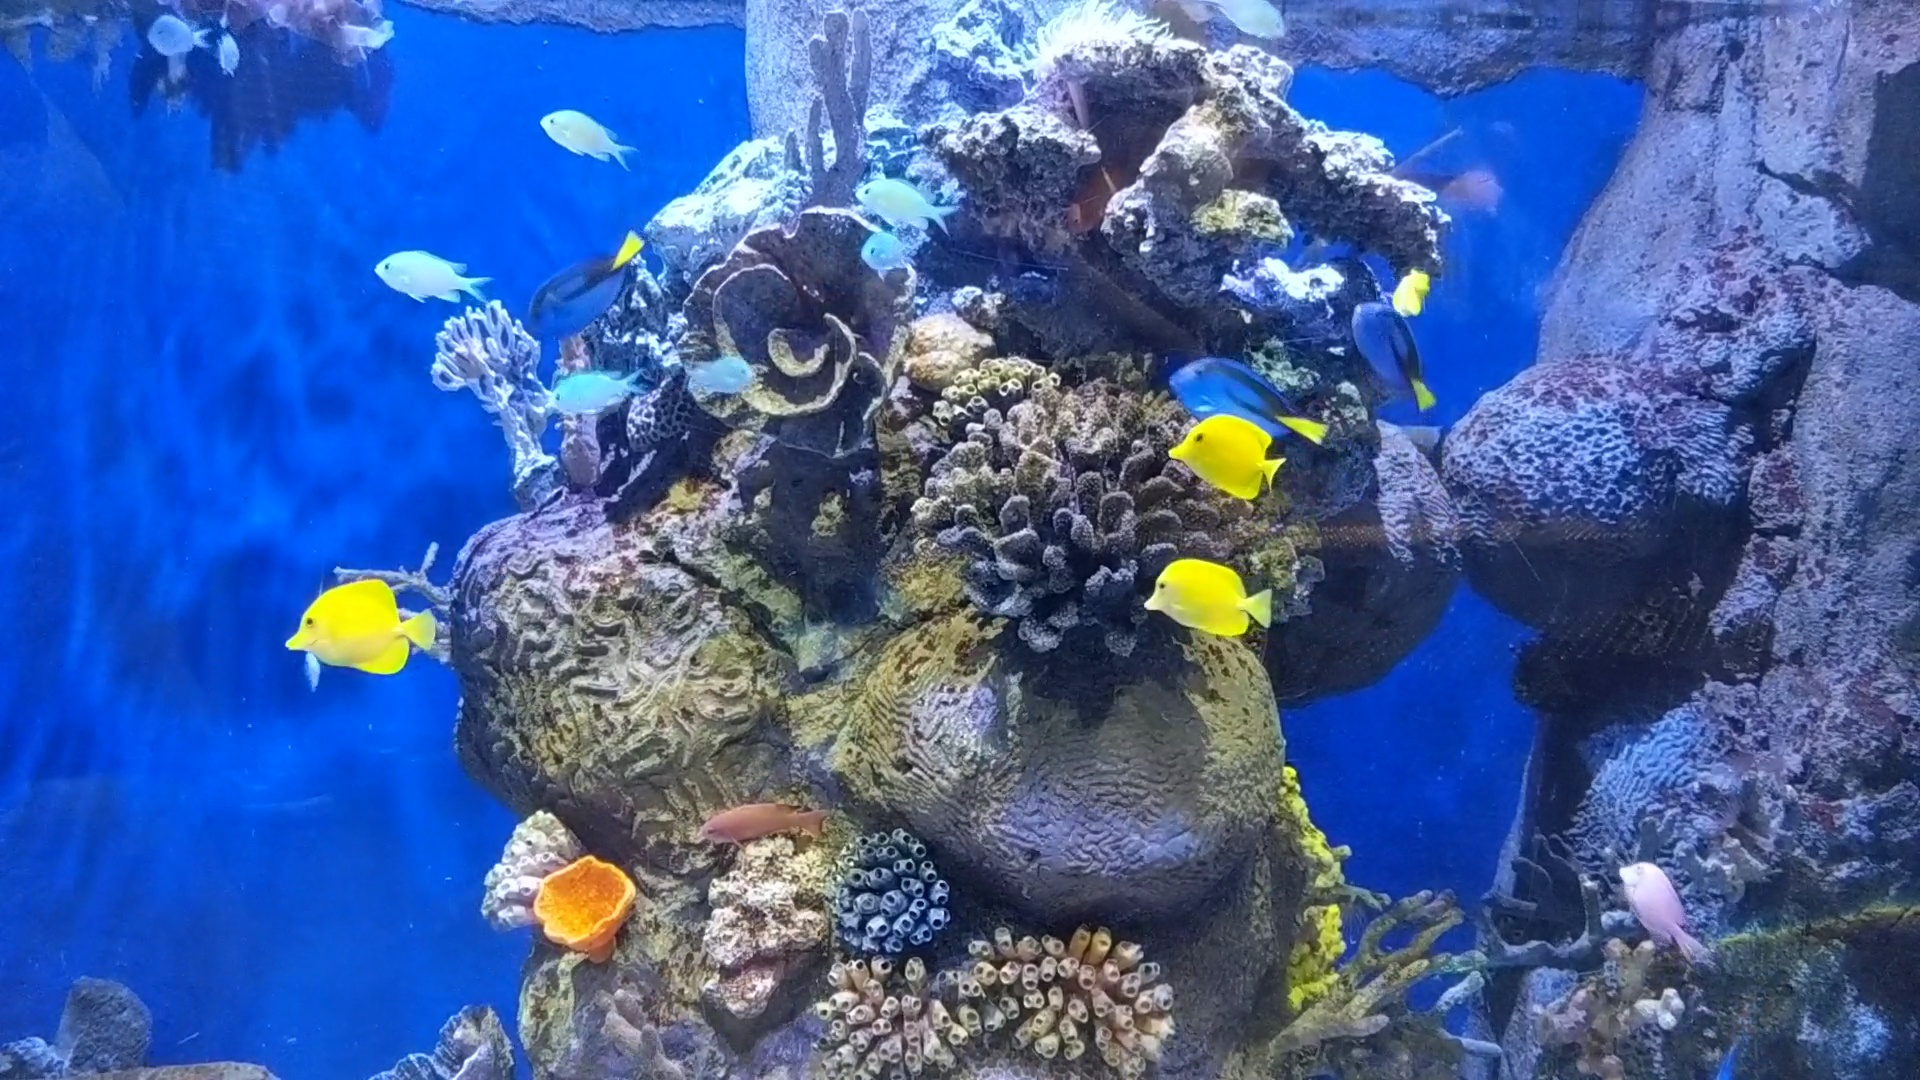blue tang surgeonfish: (1160, 352, 1328, 456), (516, 225, 651, 338), (1342, 301, 1452, 414)
damselfish: (367, 233, 488, 330), (534, 91, 651, 183), (527, 352, 644, 430), (849, 165, 959, 237), (680, 334, 760, 404), (851, 218, 923, 282), (131, 15, 208, 55), (220, 26, 244, 69)
pink fish: (1606, 851, 1731, 978)
saddle butterfly fish: (278, 568, 448, 684), (1149, 402, 1298, 518), (1139, 542, 1284, 647)
